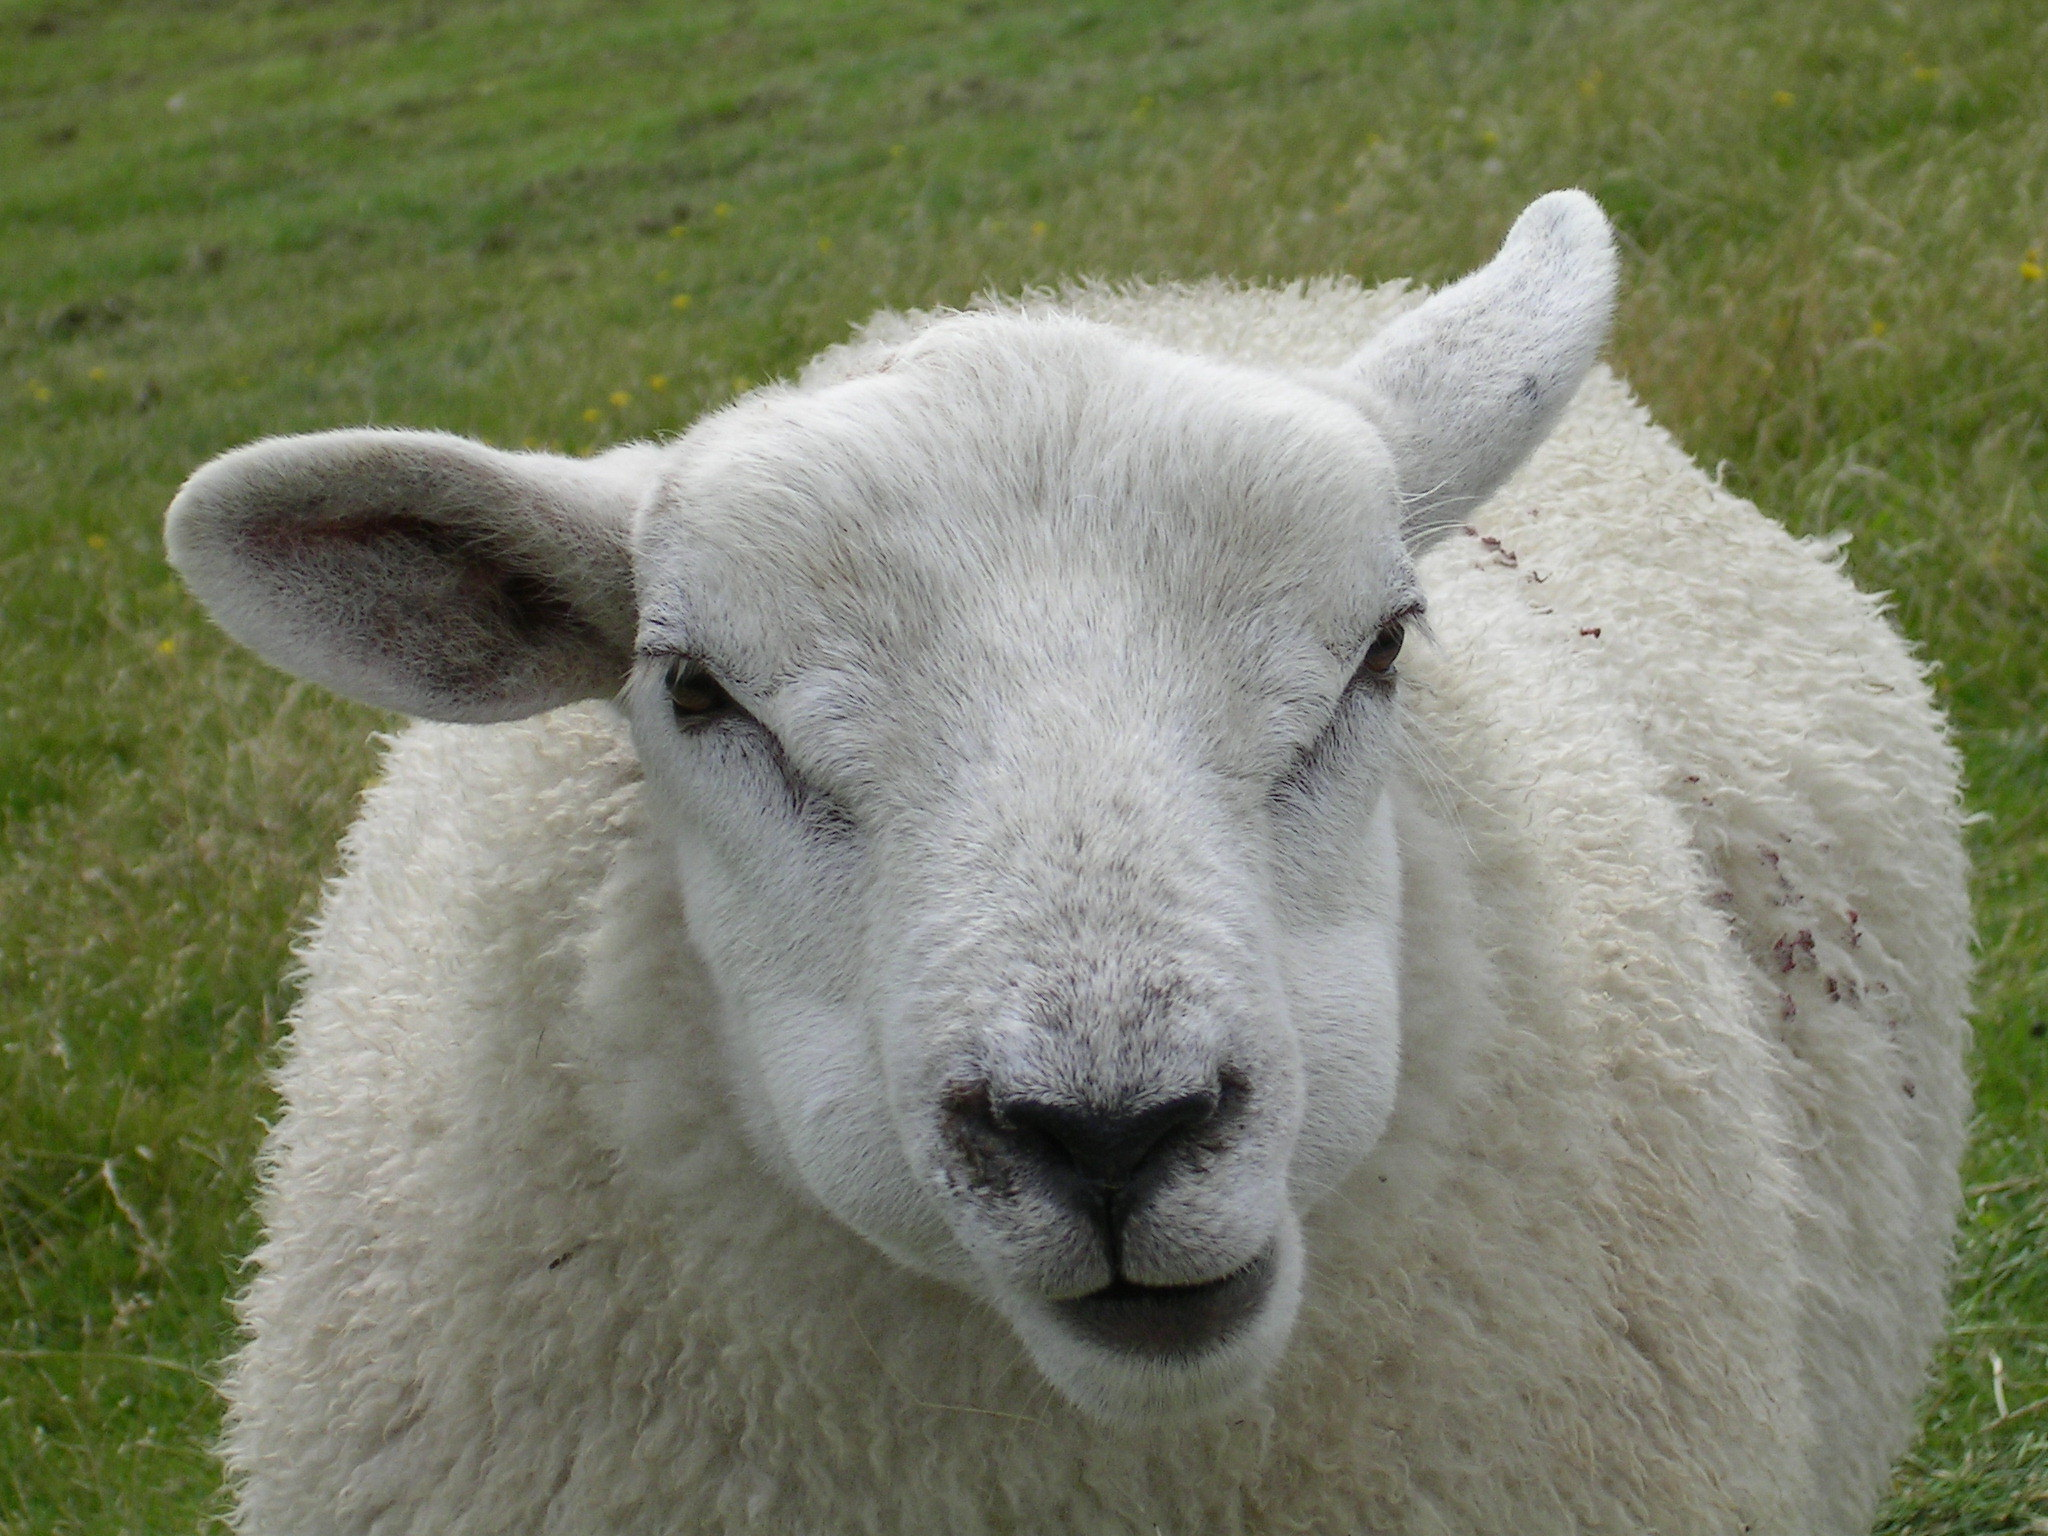sheep: (144, 223, 1951, 1536)
